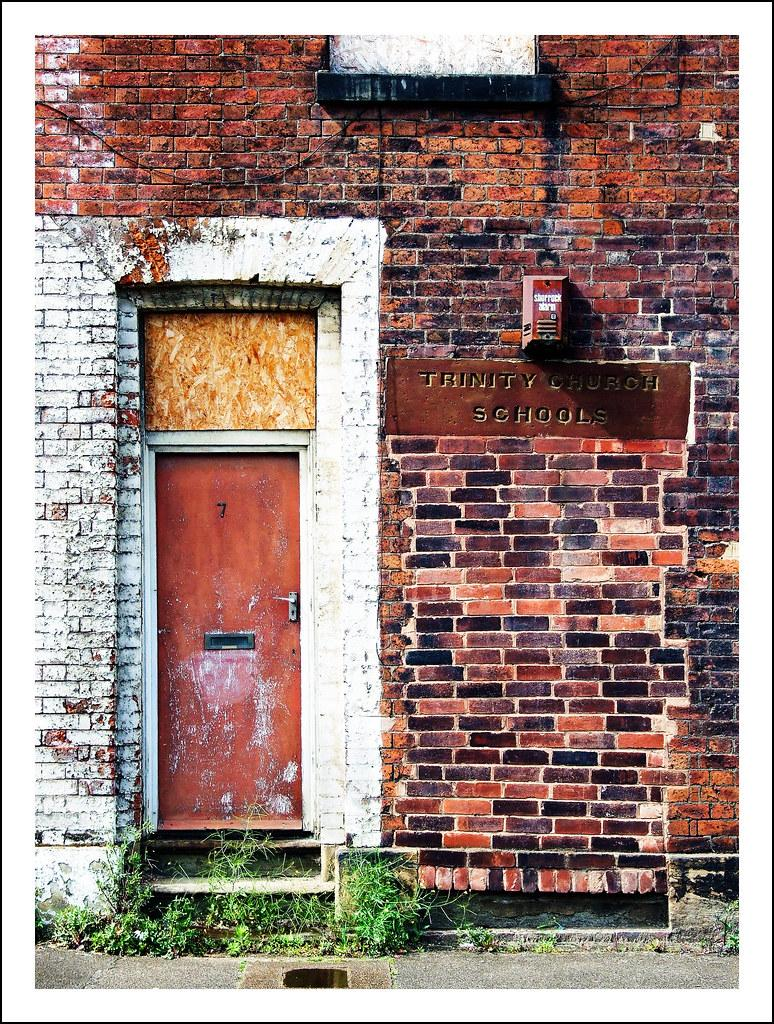door: (154, 448, 305, 834)
